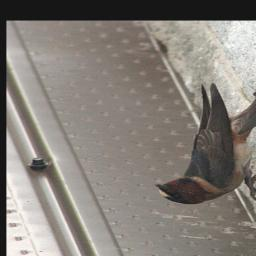Swallow: (155, 83, 256, 205)
